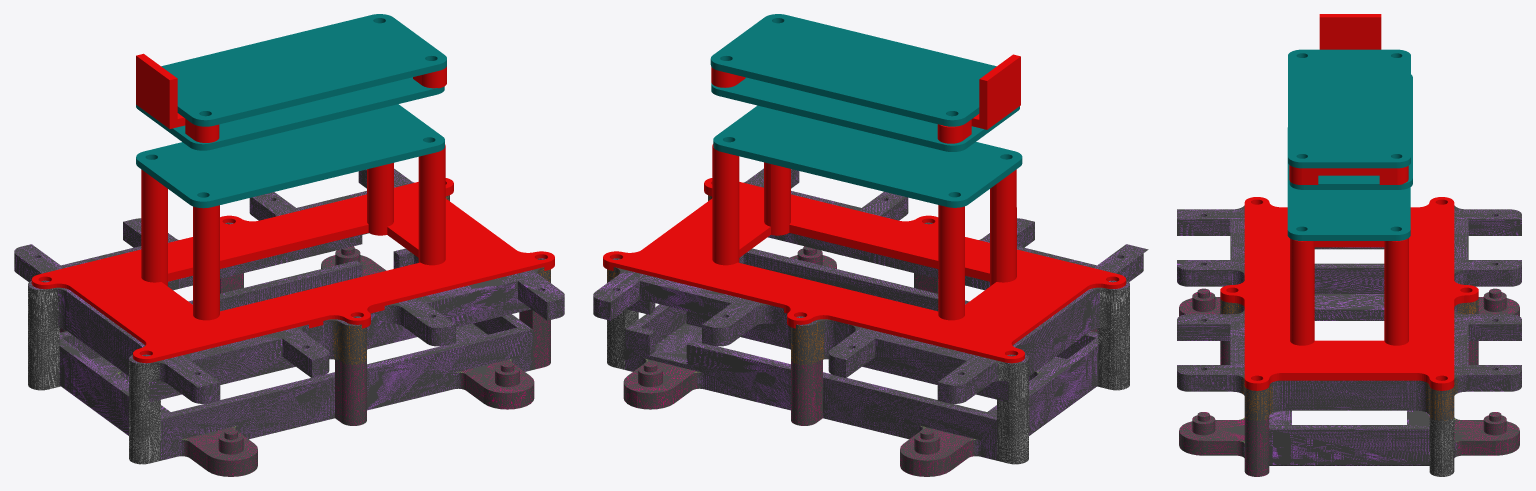
The model's file is body.dae.
3 renders of one model, left to right at view 1: azimuth 30°, elevation 25°; view 2: azimuth 150°, elevation 25°; view 3: azimuth 270°, elevation 25°, orthographic. The views are drawn at different scales.
Visible parts, largest first — view 1: group_6 (×2), group_4 (×7), group_5 (×4), group_9, group_1, group_7, group_8; view 2: group_6 (×2), group_4 (×7), group_5 (×4), group_9, group_1, group_7, group_8; view 3: group_6 (×2), group_5 (×3), group_4 (×12), group_9, group_1, group_8, group_7, group_2.
Boxes of the visible parts, bbox=[...] form: group_6 (×2): bbox=[31, 144, 554, 363]; group_4 (×7): bbox=[28, 248, 550, 476]; group_5 (×4): bbox=[14, 168, 564, 403]; group_9: bbox=[161, 14, 446, 126]; group_1: bbox=[136, 104, 444, 208]; group_7: bbox=[136, 77, 444, 150]; group_8: bbox=[136, 53, 219, 142]; group_6 (×2): bbox=[603, 144, 1126, 363]; group_4 (×7): bbox=[607, 248, 1129, 476]; group_5 (×4): bbox=[593, 168, 1148, 403]; group_9: bbox=[710, 14, 996, 126]; group_1: bbox=[713, 105, 1022, 207]; group_7: bbox=[711, 77, 1019, 151]; group_8: bbox=[937, 54, 1020, 143]; group_6 (×2): bbox=[1220, 197, 1478, 390]; group_5 (×3): bbox=[1177, 209, 1521, 420]; group_4 (×12): bbox=[1179, 263, 1519, 476]; group_9: bbox=[1288, 49, 1410, 168]; group_1: bbox=[1287, 127, 1410, 240]; group_8: bbox=[1319, 14, 1381, 49]; group_7: bbox=[1289, 74, 1412, 189]; group_2: bbox=[1289, 165, 1408, 184].
Size of the model in its own units: 4.27 by 3.31 by 3.27.
